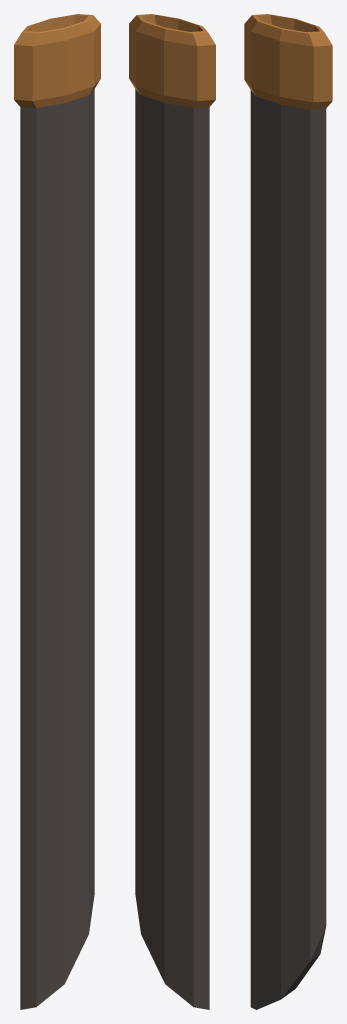
Rendered from SM_pwe_china_sword_scabbard_03.fbx.
3 renders of one model, left to right at view 1: azimuth 30°, elevation 25°; view 2: azimuth 150°, elevation 25°; view 3: azimuth 330°, elevation 25°, orthographic.
Parts seen in each view (by area): view 1: SM_pwe_china_sword_scabbard_03; view 2: SM_pwe_china_sword_scabbard_03; view 3: SM_pwe_china_sword_scabbard_03.
Part boxes in pixels (x1,y1,x2,y2): SM_pwe_china_sword_scabbard_03: [14, 14, 100, 1009]; SM_pwe_china_sword_scabbard_03: [129, 14, 215, 1009]; SM_pwe_china_sword_scabbard_03: [244, 14, 332, 1009].
Size of the model in its own units: 4.86 by 52.19 by 1.66.
